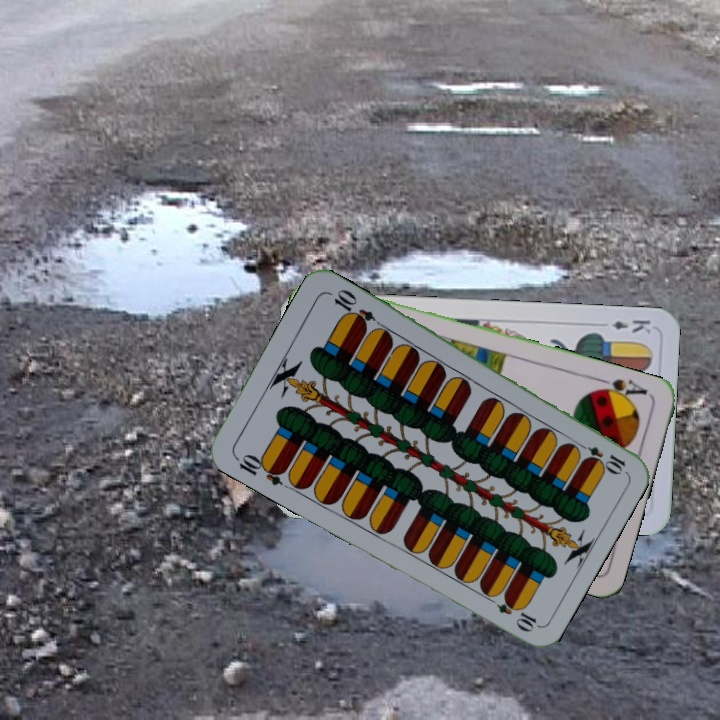E10: (231, 449, 288, 488), (572, 438, 628, 475)
EK: (608, 315, 654, 336)
SA: (591, 374, 650, 405)
